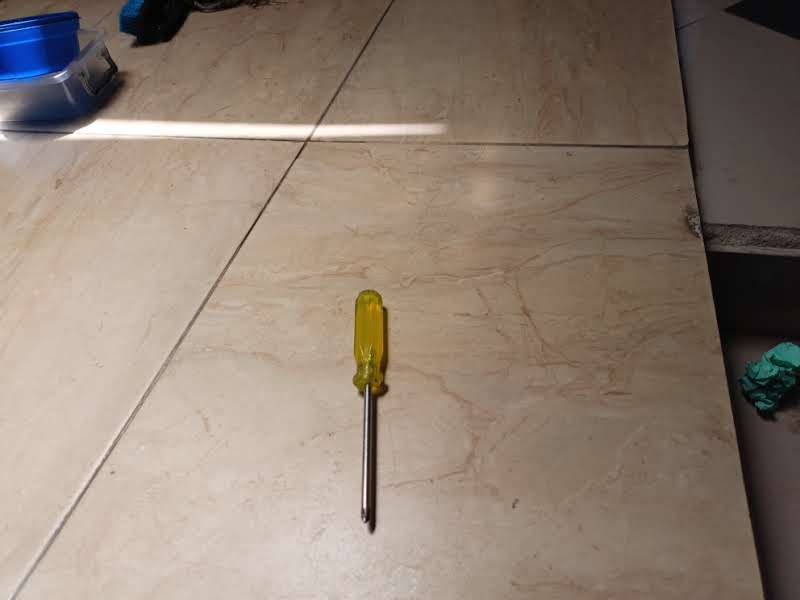Destornillador: (352, 290, 385, 521)
